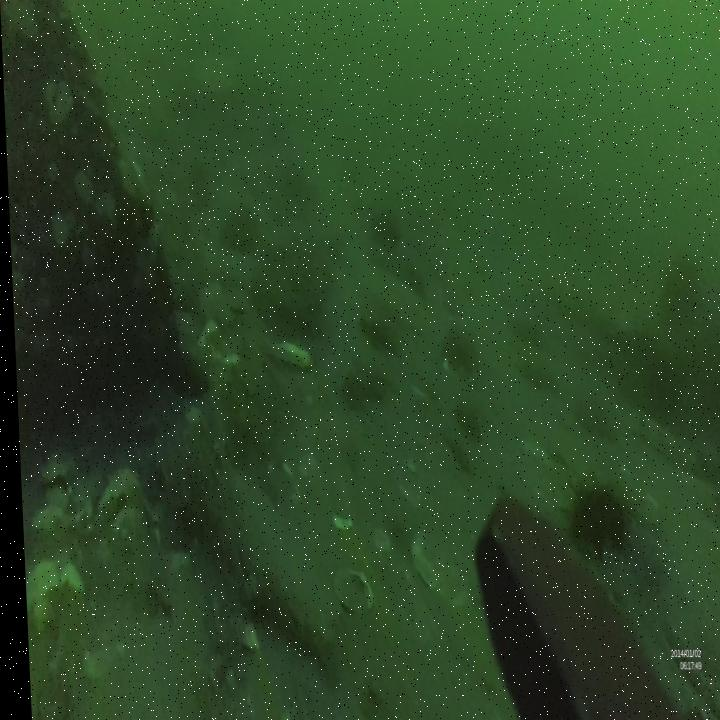echinus: (554, 474, 633, 564)
